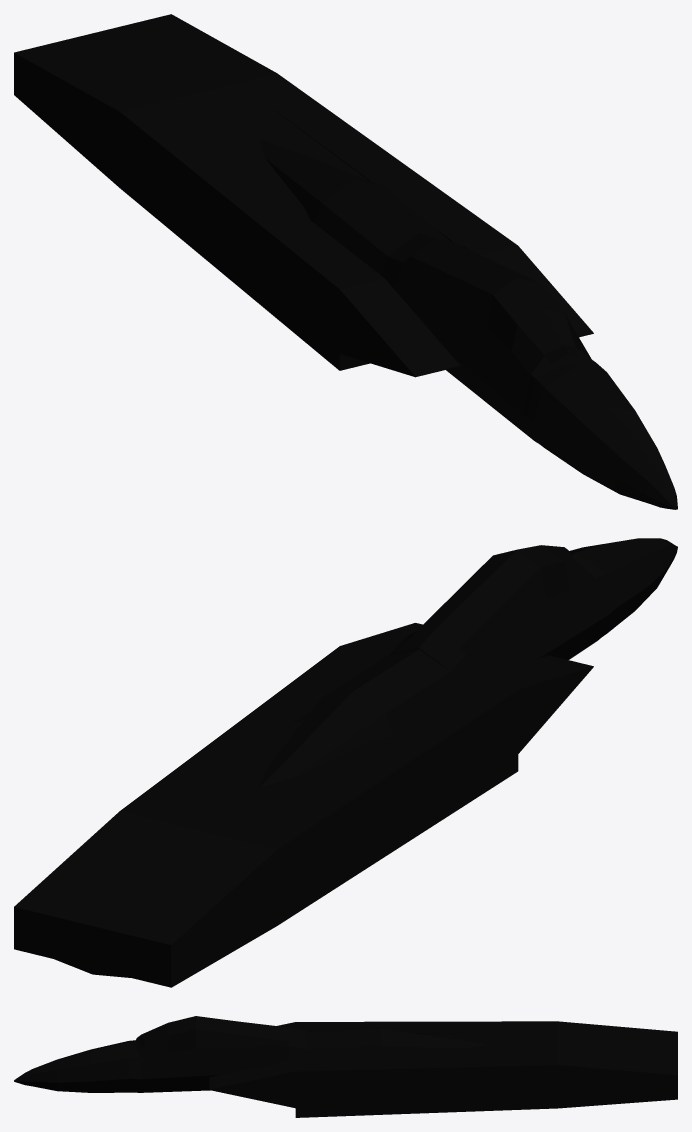
The model's file is F15_Body.fbx.
The picture shows the model from 3 angles, top to bottom: view 1: azimuth 30°, elevation 25°; view 2: azimuth 150°, elevation 25°; view 3: azimuth 270°, elevation 25°; orthographic projection. The views are drawn at different scales.
Visible parts, largest first — view 1: F15_Body; view 2: F15_Body; view 3: F15_Body.
Boxes of the visible parts, x1,y1,x2,y2 form: F15_Body: (14,14,677,509); F15_Body: (14,538,677,987); F15_Body: (14,1016,677,1117).
Bounding box in the file's own units: 0.4888 × 0.3531 × 2.77.
1 material, 1 textured.
